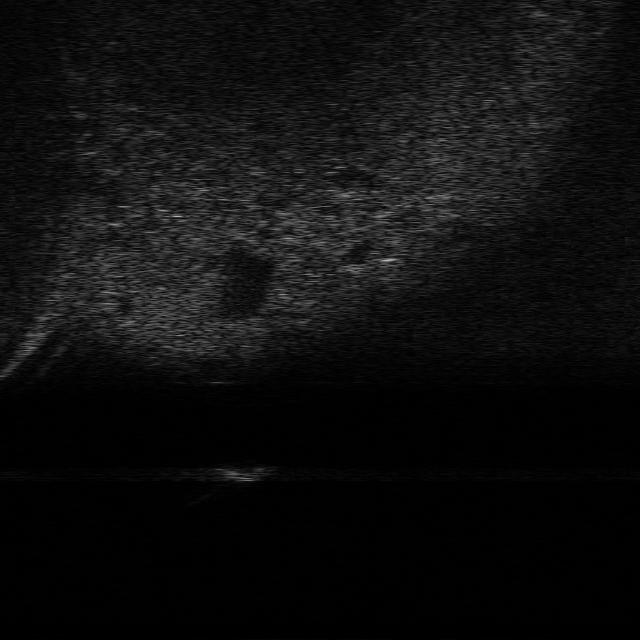cube: (216, 461, 275, 483)
